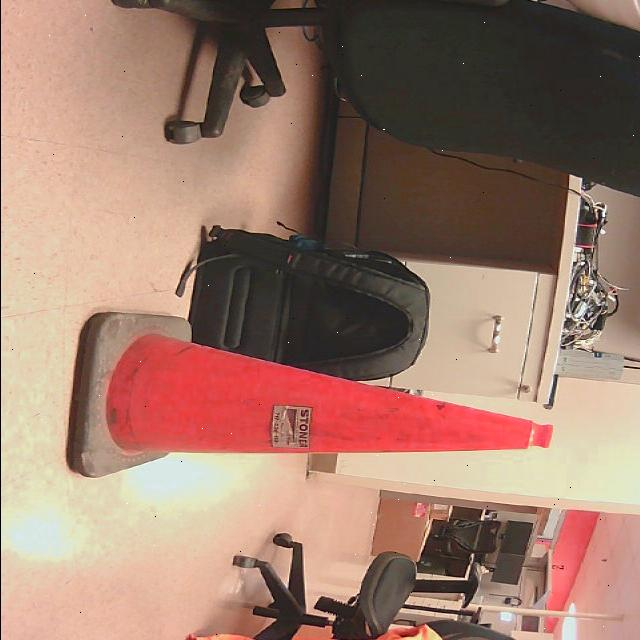traffic cone: (62, 312, 554, 480)
